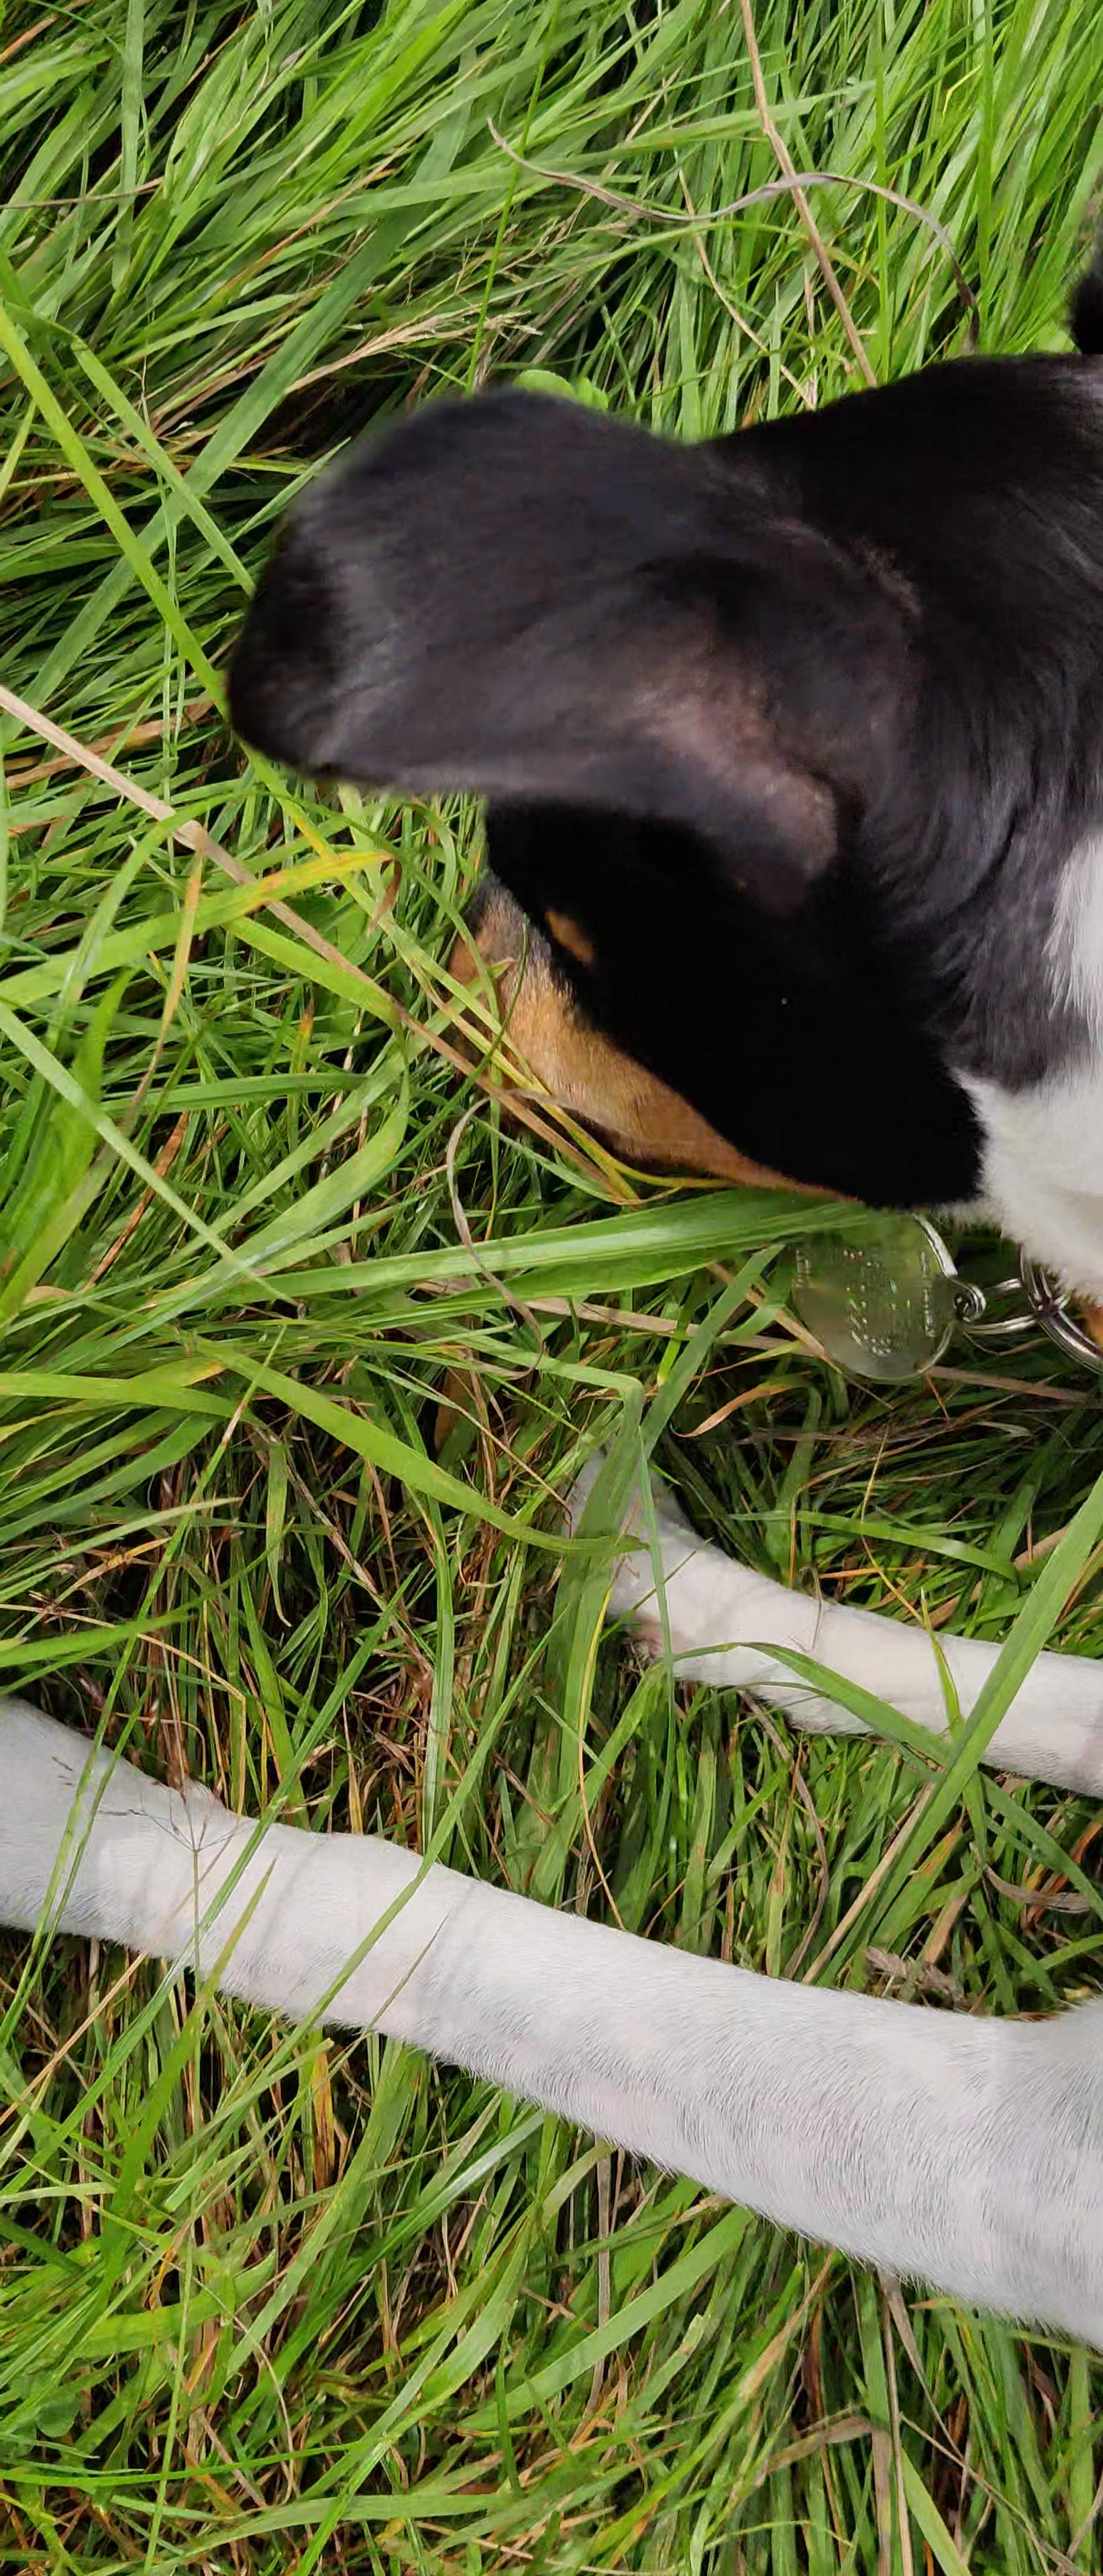Dog: (0, 223, 1103, 2387)
